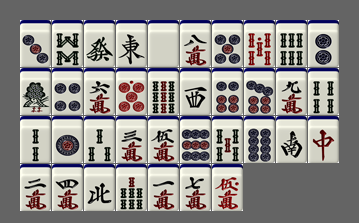0m: (212, 164, 243, 211)
0p: (116, 68, 147, 115)
0s: (244, 20, 275, 67)
1m: (148, 164, 179, 211)
1p: (52, 116, 83, 163)
1s: (20, 68, 51, 115)
1z: (116, 20, 147, 67)
2m: (20, 164, 51, 211)
2p: (308, 20, 339, 67)
2s: (20, 116, 51, 163)
2z: (276, 116, 307, 163)
3m: (116, 116, 147, 163)
3p: (20, 20, 51, 67)
3s: (84, 116, 115, 163)
3z: (180, 68, 211, 115)
4m: (52, 164, 83, 211)
4p: (52, 68, 83, 115)
4s: (308, 68, 339, 115)
4z: (84, 164, 115, 211)
5m: (148, 116, 179, 163)
5p: (212, 20, 243, 67)
5s: (212, 116, 243, 163)
5z: (148, 20, 179, 67)
6m: (84, 68, 115, 115)
6p: (212, 68, 243, 115)
6s: (276, 20, 307, 67)
6z: (84, 20, 115, 67)
7m: (180, 164, 211, 211)
7p: (244, 68, 275, 115)
7s: (116, 164, 147, 211)
7z: (308, 116, 339, 163)
8m: (180, 20, 211, 67)
8p: (244, 116, 275, 163)
8s: (52, 20, 83, 67)
9m: (276, 68, 307, 115)
9p: (180, 116, 211, 163)
9s: (148, 68, 179, 115)
